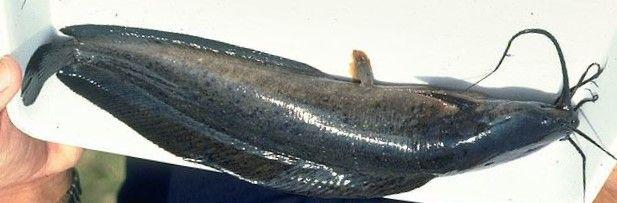Catfish: (22, 24, 613, 198)
